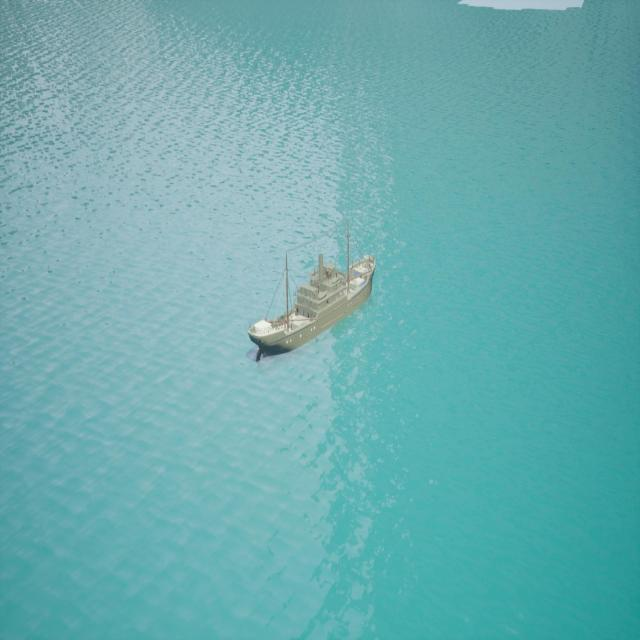fishing ship: (250, 259, 376, 362)
